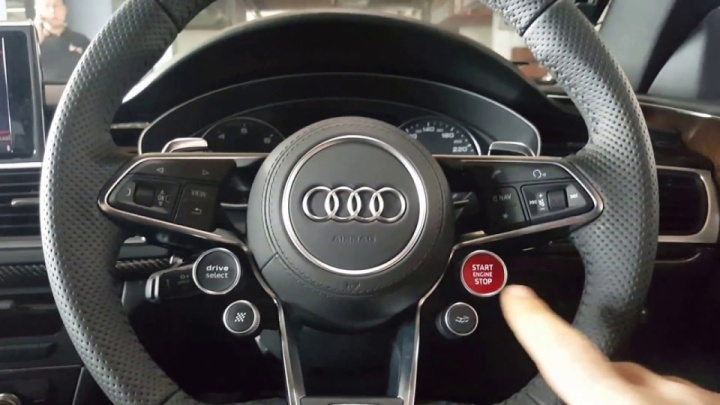audi: (297, 181, 409, 227)
